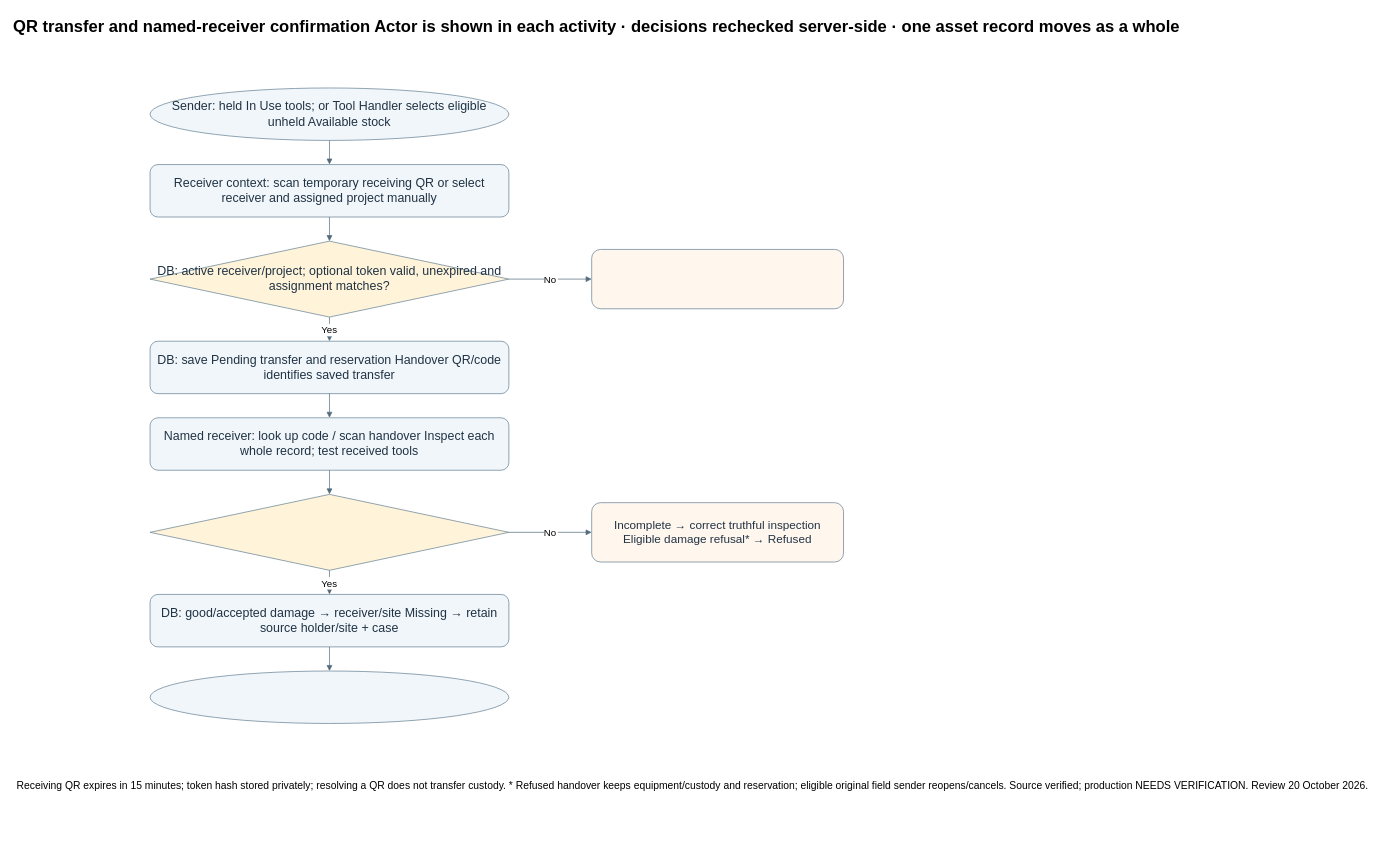
The diagram is 1380 pixels wide and 852 high, and some of its shapes have lost their labels. Each missing label, with the centre of its shape:
DB: Received; release reservation Update linked request; activity + notices: (x=329, y=696)
Every condition/test/note/custody decision valid and receipt authorized?: (x=329, y=532)
Reject invalid context; refresh assignment or obtain fresh receiver QR: (x=717, y=279)
